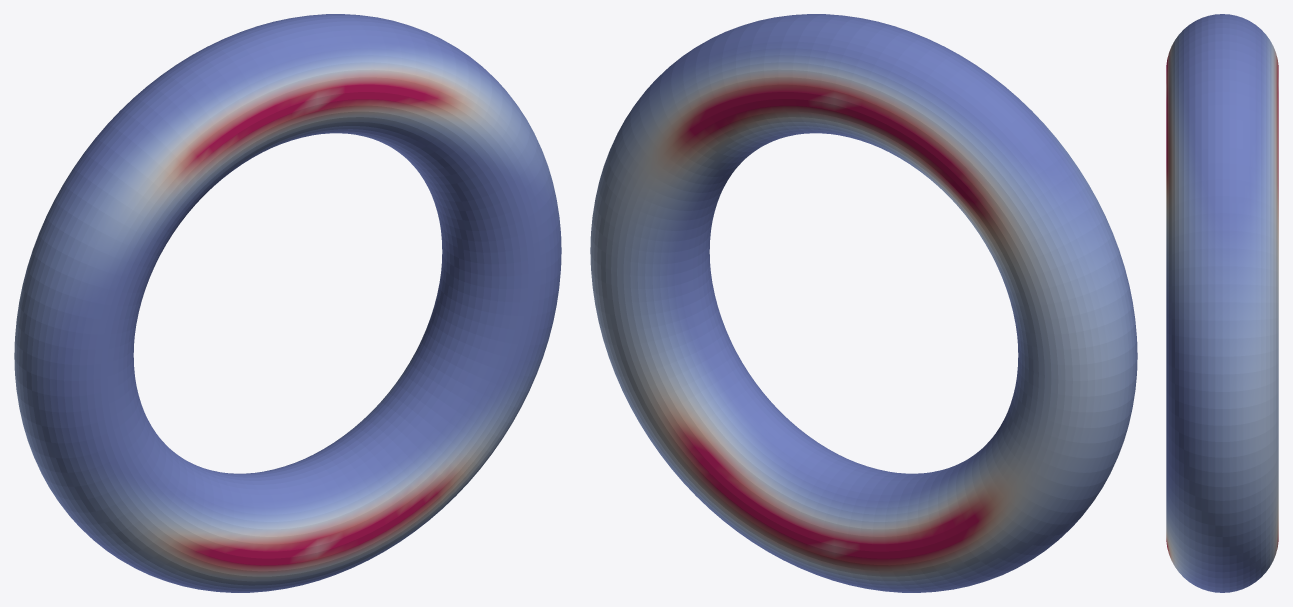
3 renders of one model, left to right at view 1: azimuth 30°, elevation 25°; view 2: azimuth 150°, elevation 25°; view 3: azimuth 270°, elevation 25°, orthographic. The views are drawn at different scales.
Visible parts, largest first — view 1: world; view 2: world; view 3: world.
Boxes of the visible parts, x1,y1,x2,y2 form: world: (14, 14, 561, 592); world: (590, 14, 1137, 592); world: (1166, 14, 1278, 592).
Bounding box in the file's own units: 19.87 × 19.87 × 3.86.
